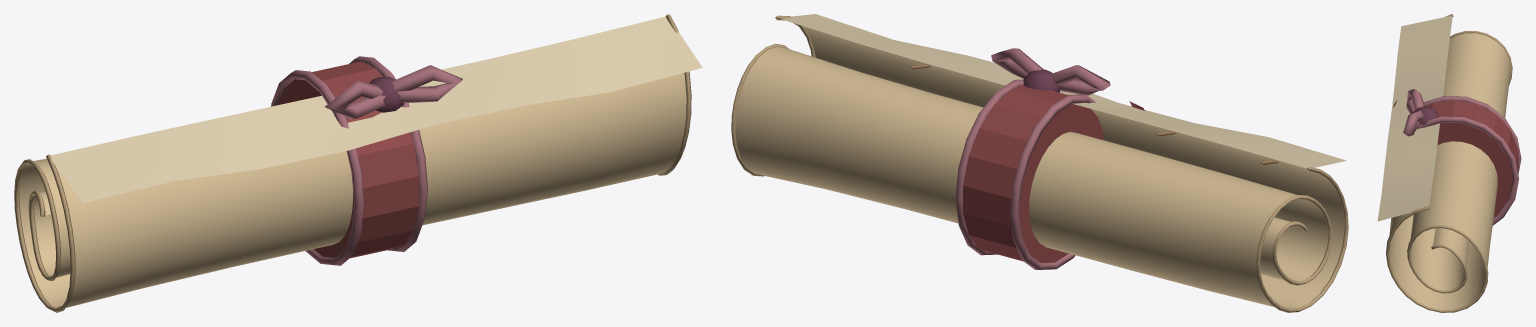
Rendered from plan.glb.
3 renders of one model, left to right at view 1: azimuth 30°, elevation 25°; view 2: azimuth 150°, elevation 25°; view 3: azimuth 270°, elevation 25°, orthographic. The views are drawn at different scales.
Parts seen in each view (by area): view 1: plan; view 2: plan; view 3: plan.
Part boxes in pixels (left/top/right/bottom): plan: left=14, top=14, right=702, bottom=312; plan: left=731, top=14, right=1348, bottom=312; plan: left=1377, top=14, right=1521, bottom=312.
Bounding box in the file's own units: 0.4 × 0.12 × 0.12.
